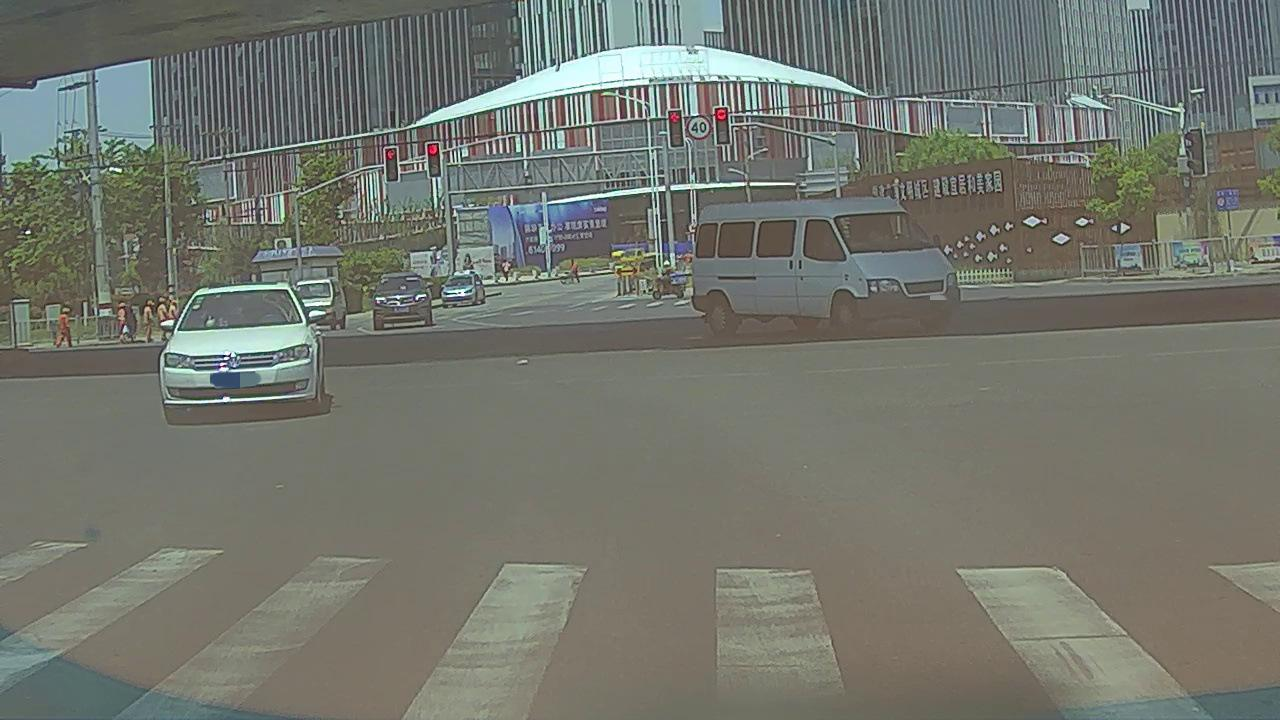traffic_light: (668, 110, 684, 148), (714, 107, 730, 145), (427, 142, 441, 177), (385, 147, 399, 181)
